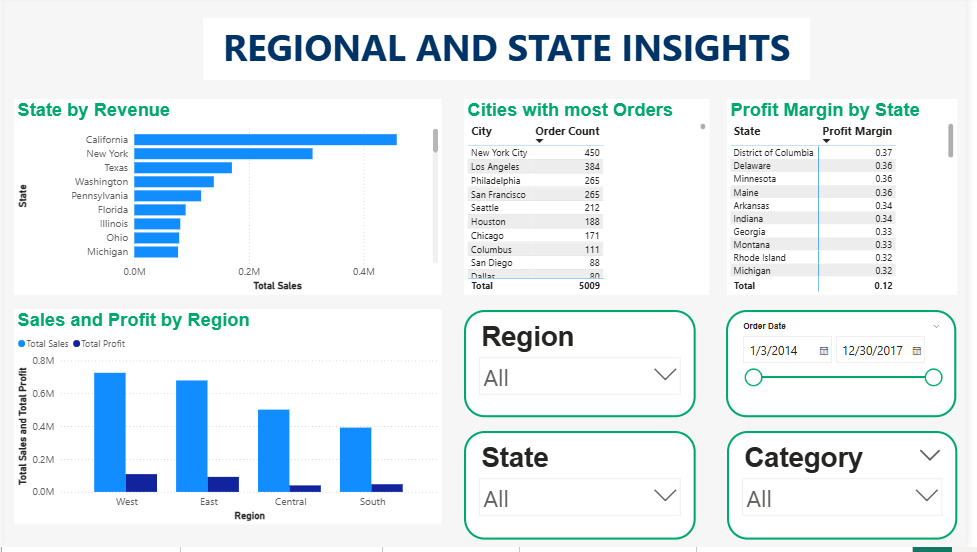

This screenshot's page, from the dashboard's own definition file:
{"tool":"powerbi","page":{"name":"Regional & State Insights ","canvas":[1400,800],"ordinal":3},"visuals":[{"type":"textbox","box":[289.8,29.9,883.5,89.8],"z":0},{"type":"clusteredBarChart","title":"State by Revenue","fields":{"Category":["States.State"],"Y":["Orders.Total Sales"]},"box":[14.2,148,622,285],"z":1000},{"type":"clusteredColumnChart","title":"Sales and Profit by Region","fields":{"Category":["States.Region"],"Y":["Orders.Total Sales","Orders.Total Profit"]},"box":[14.2,453.5,622,313.4],"z":2000},{"type":"tableEx","title":"Cities with most Orders","fields":{"Values":["Locations.City","Orders.Order Count"]},"box":[669.3,148,357.5,285],"z":3000},{"type":"pivotTable","title":"Profit Margin by State","fields":{"Values":["Orders.Profit Margin"],"Rows":["States.State"]},"box":[1052,148,335.4,285],"z":4000},{"type":"slicer","fields":{"Values":["States.Region"]},"box":[669.3,454.7,337.2,155.8],"z":5000},{"type":"slicer","fields":{"Values":["States.State"]},"box":[669.3,631,337.2,158.4],"z":6000},{"type":"slicer","fields":{"Values":["Orders.Order Date"]},"box":[1050.4,455.1,335.4,155.9],"z":7000},{"type":"slicer","fields":{"Values":["Products.Category"]},"box":[1052,631,335,158],"z":8000}]}

Visuals, with their boxes in screenshot pixels (x1, y1, x2, y2), scaled from the page's 1400x800 canvas onto the 977x552 screenshot:
textbox: pyautogui.locateOnScreen(202, 21, 819, 83)
"State by Revenue" clusteredBarChart: pyautogui.locateOnScreen(10, 102, 444, 299)
"Sales and Profit by Region" clusteredColumnChart: pyautogui.locateOnScreen(10, 313, 444, 529)
"Cities with most Orders" tableEx: pyautogui.locateOnScreen(467, 102, 717, 299)
"Profit Margin by State" pivotTable: pyautogui.locateOnScreen(734, 102, 968, 299)
slicer - States.Region: pyautogui.locateOnScreen(467, 314, 702, 421)
slicer - States.State: pyautogui.locateOnScreen(467, 435, 702, 545)
slicer - Orders.Order Date: pyautogui.locateOnScreen(733, 314, 967, 422)
slicer - Products.Category: pyautogui.locateOnScreen(734, 435, 968, 544)
